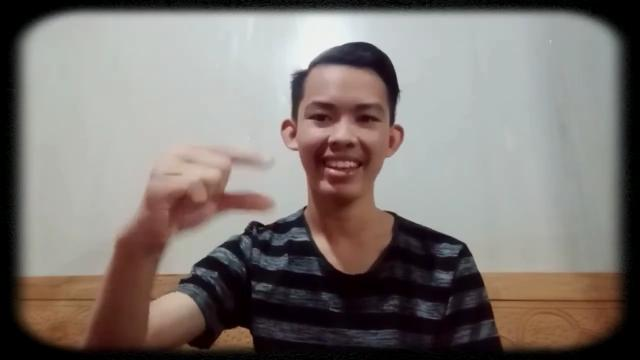G: (124, 146, 278, 246)
